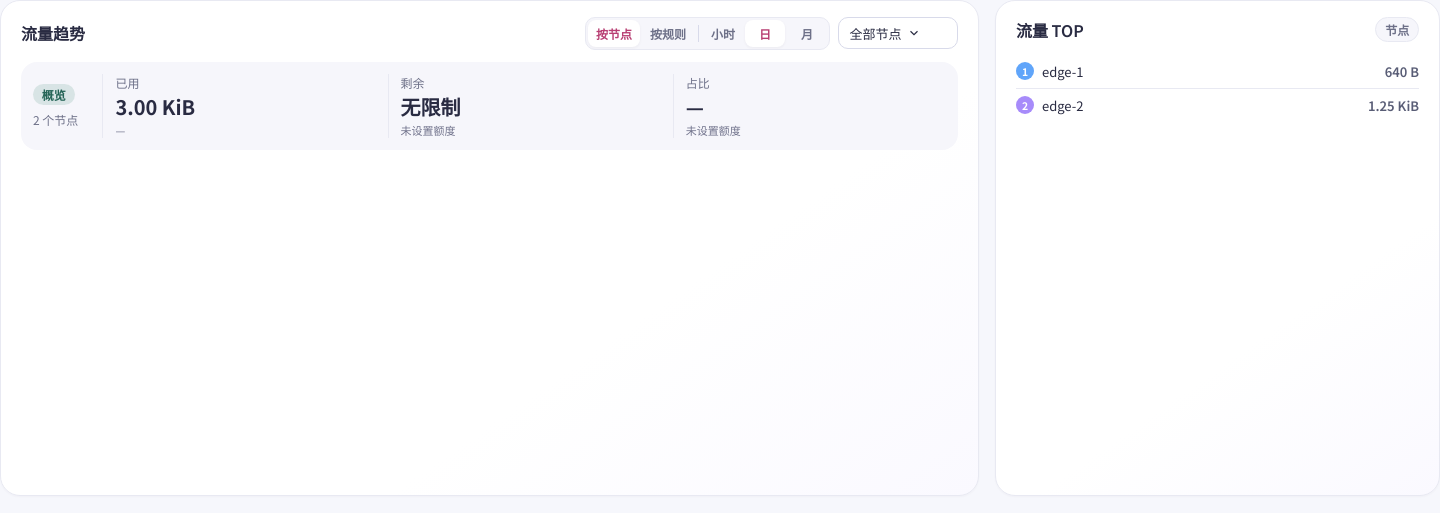
Test: DashboardTrafficModule › switches between node and rules views while keeping agent filter and driving TOP
Expected: the element with test id "health-kpi-grid" is shown, [21,62,958,150]
Expected: the element with class "dashboard-traffic__agent-picker" is shown, [838,17,958,49]
What coordinates should you click on to do the following:
click the button with test id "trend-view-btn" showing "按规则"
I would click on:
 (668, 33)
Its box is [642,20,694,47].
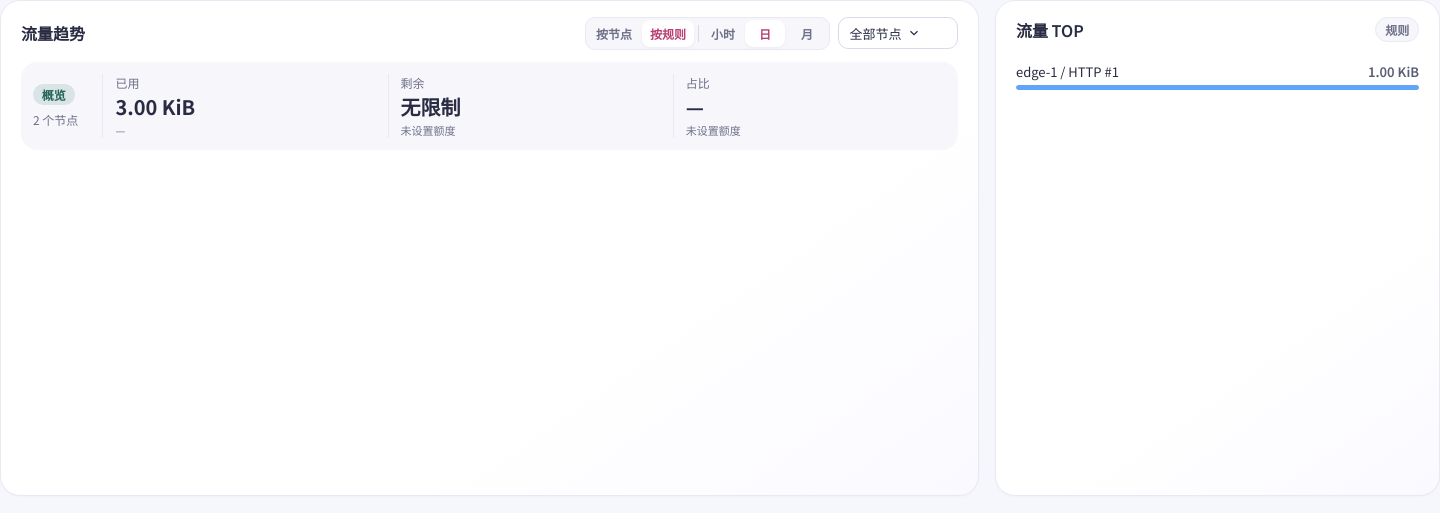
Expected: the element with class "dashboard-traffic__agent-picker" is shown, [838,17,958,49]
Expected: the text with test id "top-mode-label" reads "规则", [1385,21,1409,38]
Expected: the element with class "dt-top-rule" is shown, [1016,54,1419,97]
What coordinates should you click on to do the following:
click the button with test id "trend-view-btn" showing "按节点"
I would click on:
 (614, 33)
Its box is [588,20,640,47].
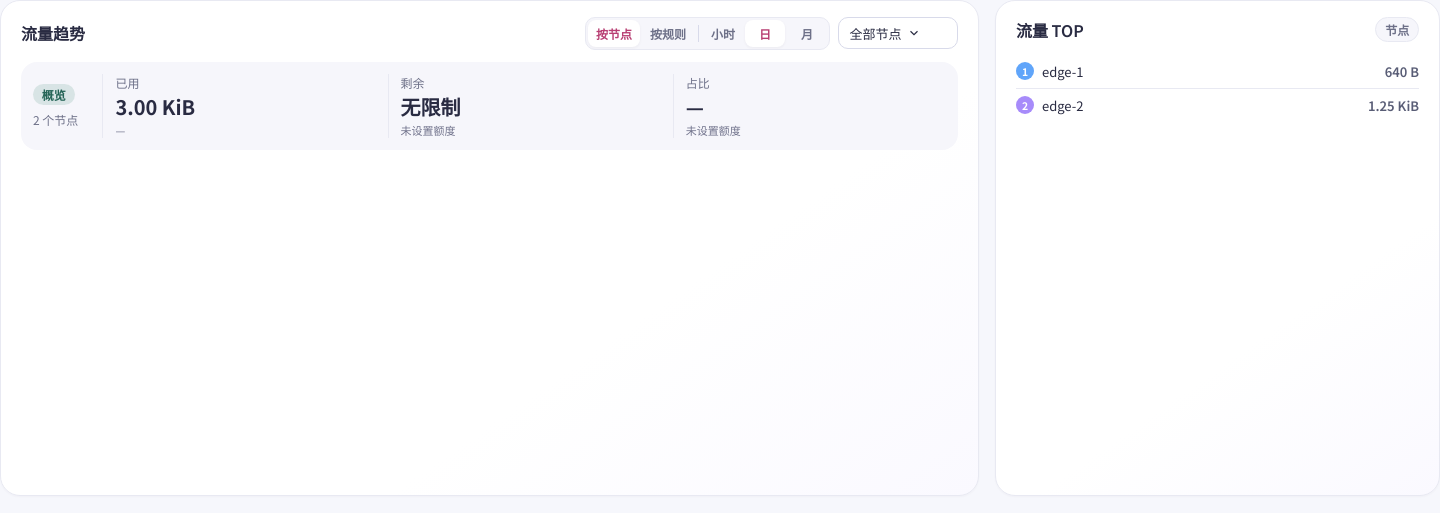
Expected: the element with class "dashboard-traffic__agent-picker" is shown, [838,17,958,49]
Expected: the text with test id "top-mode-label" reads "节点", [1385,21,1409,38]
